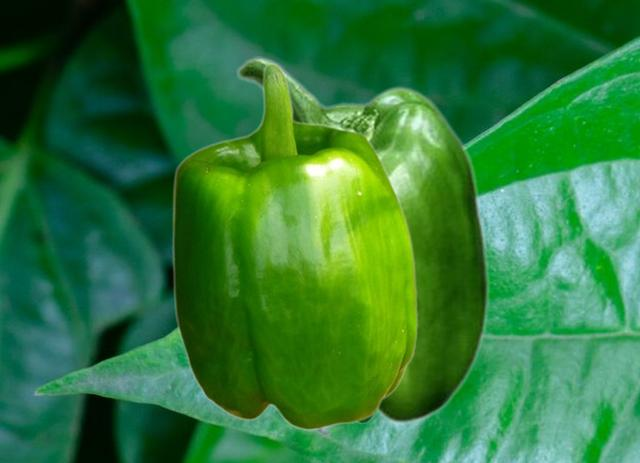bell_pepper: (232, 56, 490, 424), (171, 62, 417, 430)
